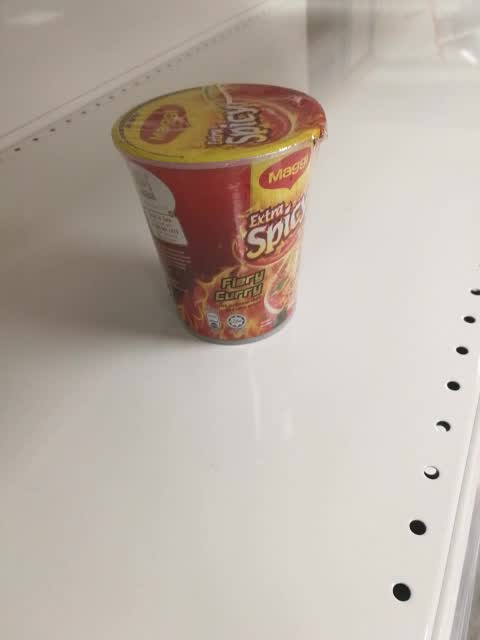maggi: (110, 81, 329, 346)
